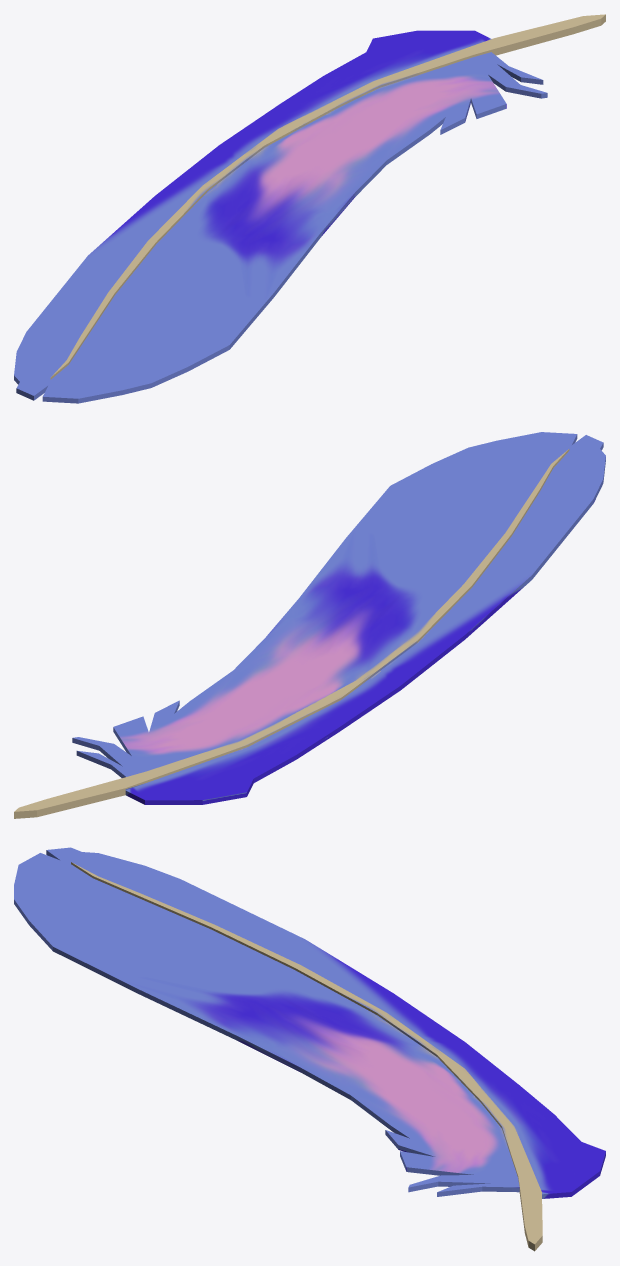
Rendered from Feather.fbx.
The picture shows the model from 3 angles, top to bottom: view 1: azimuth 30°, elevation 25°; view 2: azimuth 210°, elevation 25°; view 3: azimuth 270°, elevation 25°; orthographic projection.
Visible parts, largest first — view 1: Vert; view 2: Vert; view 3: Vert.
Boxes of the visible parts, <box> form: Vert: <box>14,14,605,403</box>; Vert: <box>14,432,605,818</box>; Vert: <box>14,847,605,1251</box>.
Bounding box in the file's own units: 375 × 3.07 × 235.
Materials: 1 (1 with a texture image).
